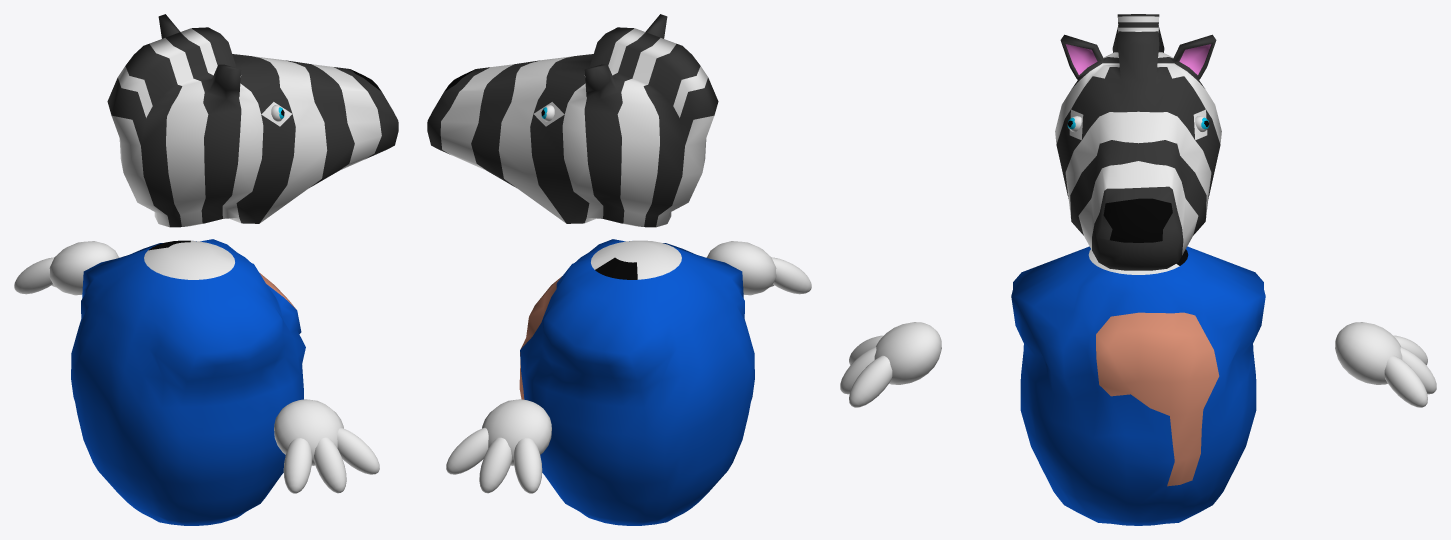
File: zebra.fbx
3 views of the same model, side by side, from view 1: azimuth 30°, elevation 25°; view 2: azimuth 150°, elevation 25°; view 3: azimuth 270°, elevation 25° (orthographic). The views are drawn at different scales.
Parts seen in each view (by area): view 1: zebra, zebra_hand_R, zebra_hand_l; view 2: zebra, zebra_hand_l, zebra_hand_R; view 3: zebra, zebra_hand_l, zebra_hand_R.
Boxes of the visible parts, x1,y1,x2,y2 form: zebra: [71, 14, 398, 525]; zebra_hand_R: [274, 399, 379, 493]; zebra_hand_l: [14, 241, 119, 295]; zebra: [427, 14, 754, 525]; zebra_hand_l: [446, 399, 551, 493]; zebra_hand_R: [706, 241, 811, 295]; zebra: [1011, 14, 1265, 525]; zebra_hand_l: [1335, 322, 1436, 407]; zebra_hand_R: [840, 322, 941, 407].
Size of the model in its own units: 307 by 465 by 524.
